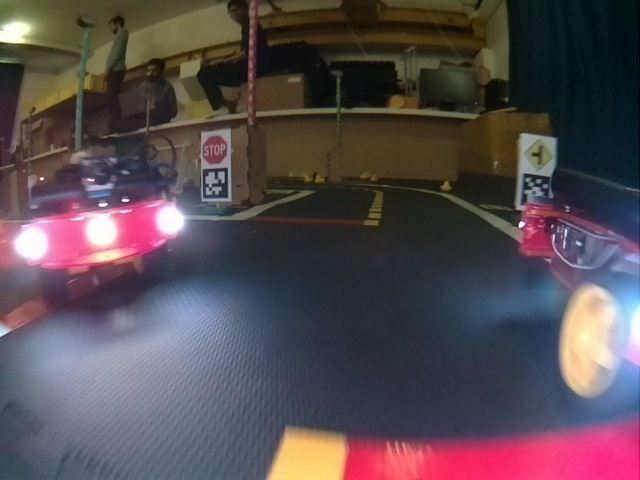Duckie: (370, 174, 379, 183), (360, 172, 370, 180), (441, 181, 450, 189), (315, 176, 324, 183), (303, 176, 312, 182)
Duckiebot: (521, 200, 640, 409), (23, 153, 179, 292)
Intersection sign: (523, 135, 557, 174)
QR code: (522, 174, 549, 207), (202, 171, 228, 197)
Stop sign: (203, 134, 229, 164)
